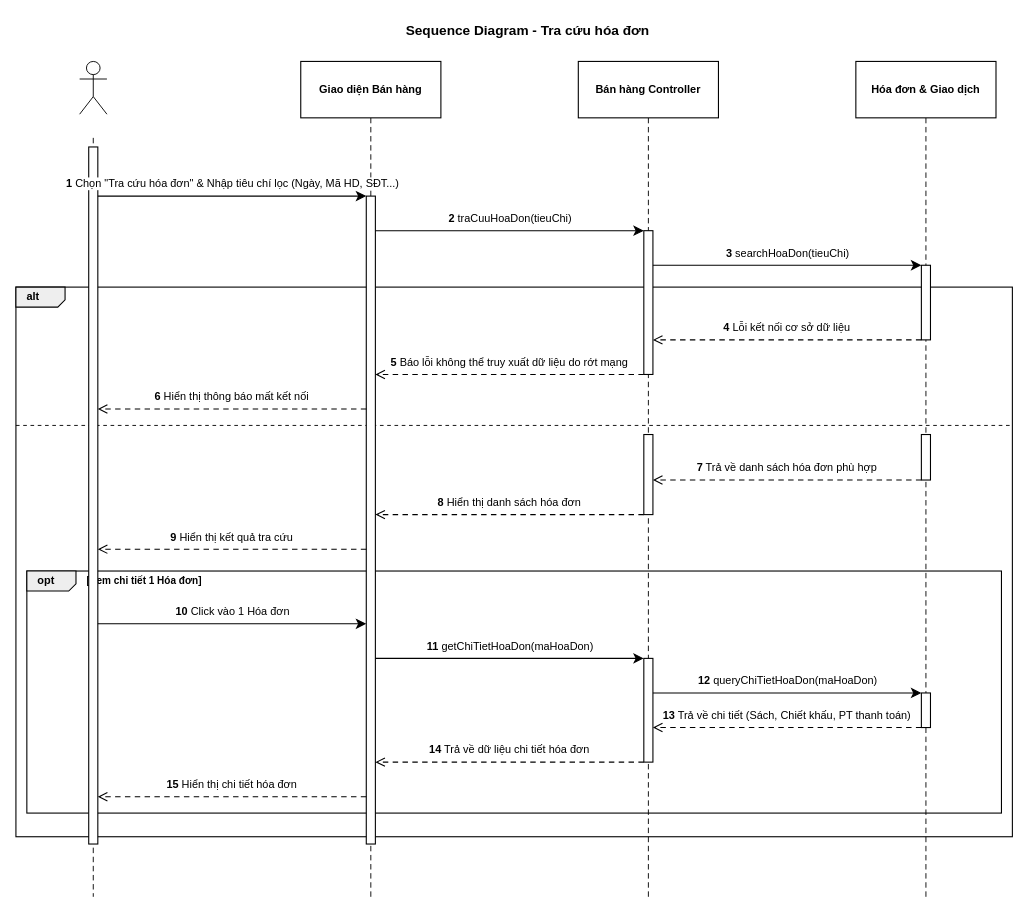
This 1030x914 diagram has some shape labels left out. Each missing label, with the centre of its shape:
[Bình thường]: (73,436)
[Mất kết nối DB]: (129,296)
Nhân viên / Quản lý: (93,87)
